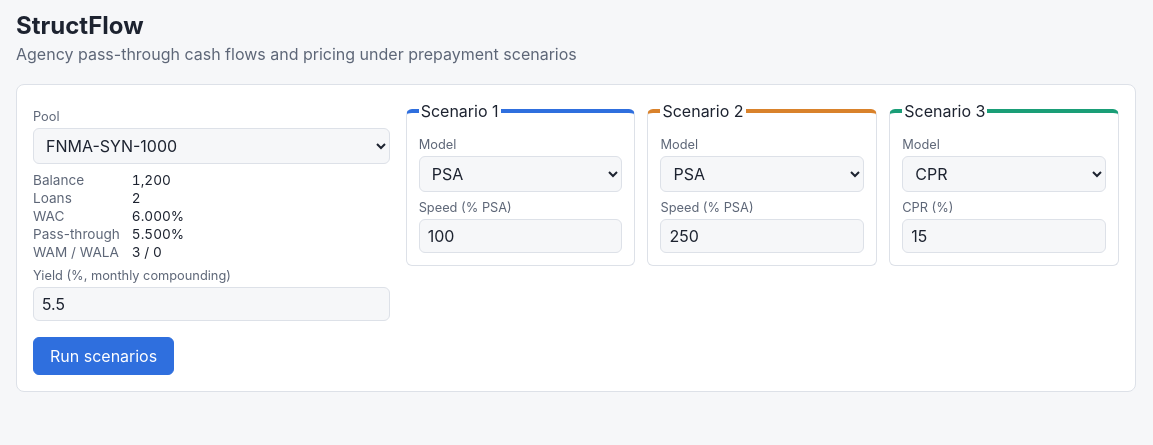
Test: shows API validation errors
Click the button "Run scenarios" at (104, 356), box [33, 337, 174, 375]
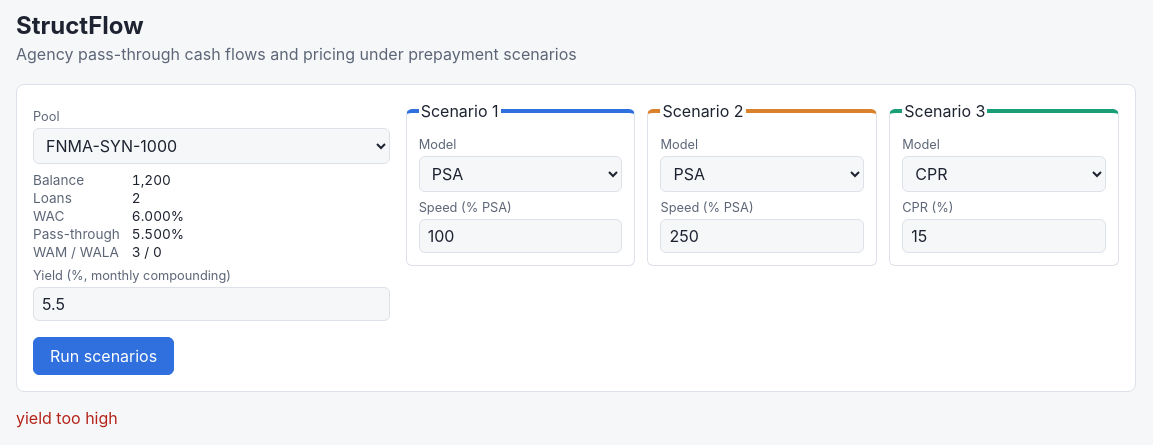
Now the message reads "yield too high", box [16, 408, 118, 428]
